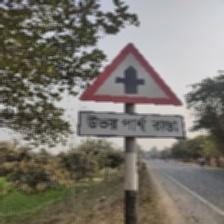Crossroad: (77, 42, 187, 142)
